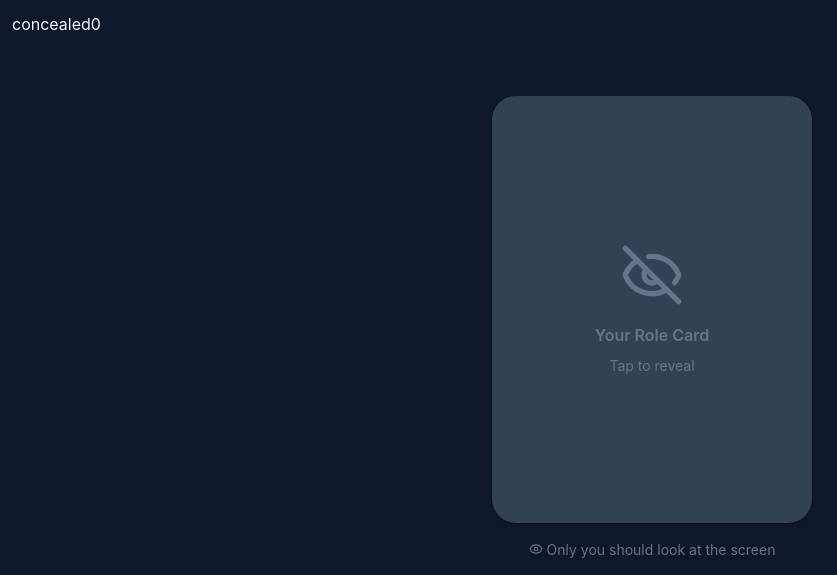
RoleCard tap flow › reveals the role with a single tap
The width and height of the screenshot is (837, 575).
expect the text with test id "phase" reads "concealed": met, box [12,14,91,34]
expect the text "Dog" is not shown: met
Click the button "Your Role Card Tap to reveal". click: (652, 309)
box: [492,96,812,523]
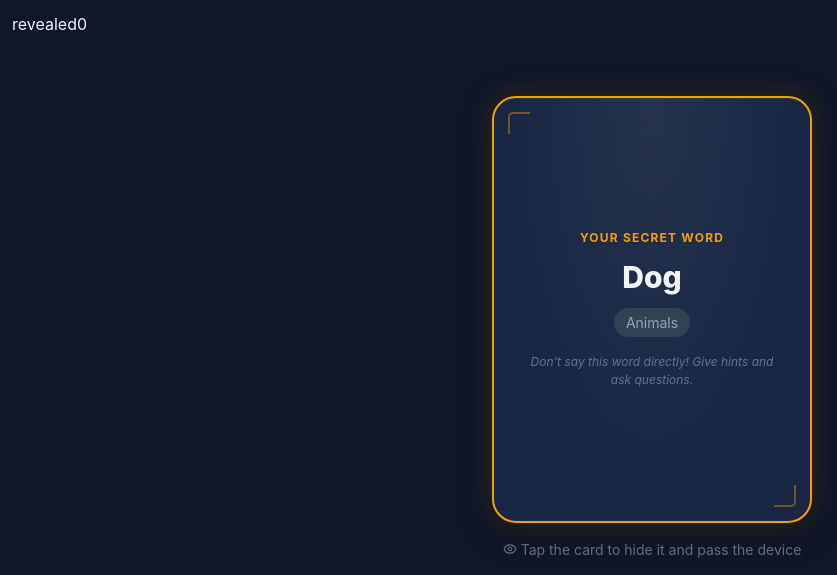
expect the text with test id "phase" reads "revealed": met, box [12,14,77,34]
expect the text "Dog" is shown: met, box [622,255,682,300]
expect the text "Your Secret Word" is shown: met, box [580,229,724,247]
